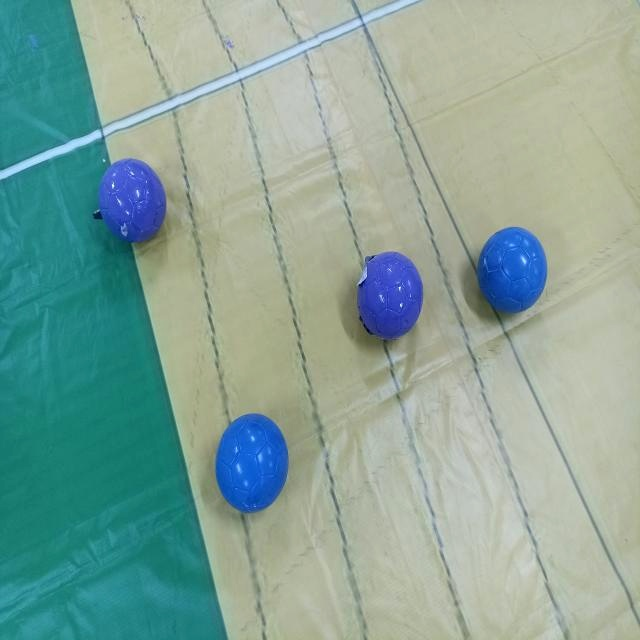blue_ball: (215, 404, 291, 517), (472, 220, 552, 318)
purple_ball: (93, 146, 169, 256), (353, 238, 422, 348)
